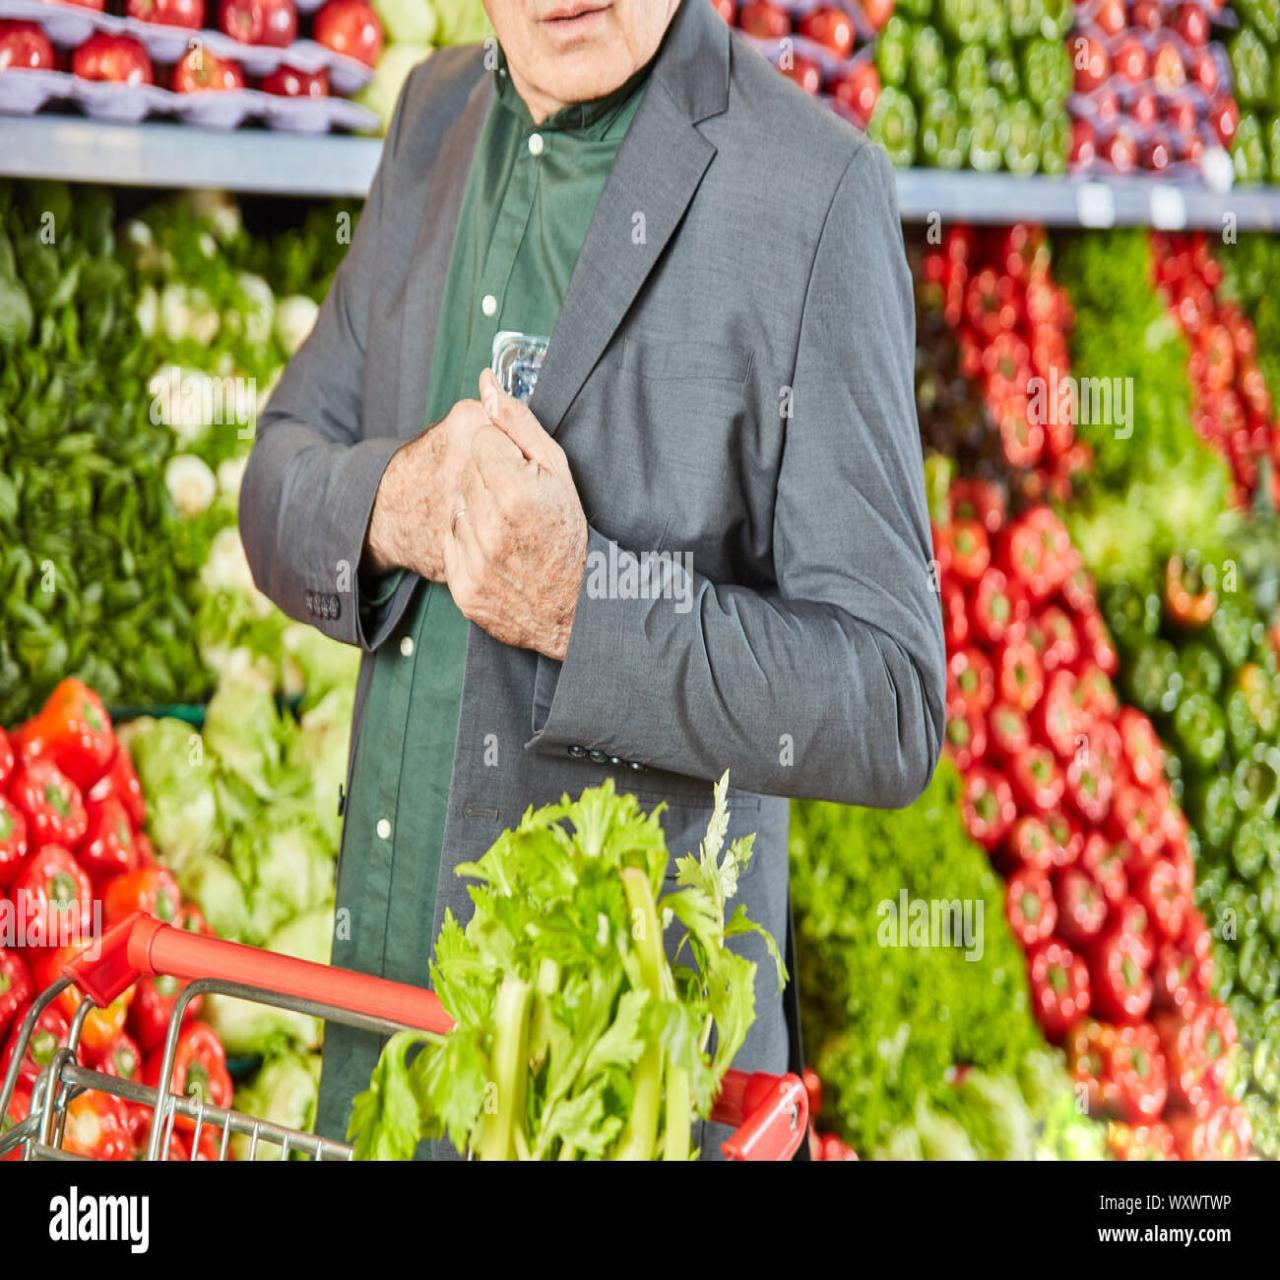Shoplifting: (113, 83, 904, 1158)
